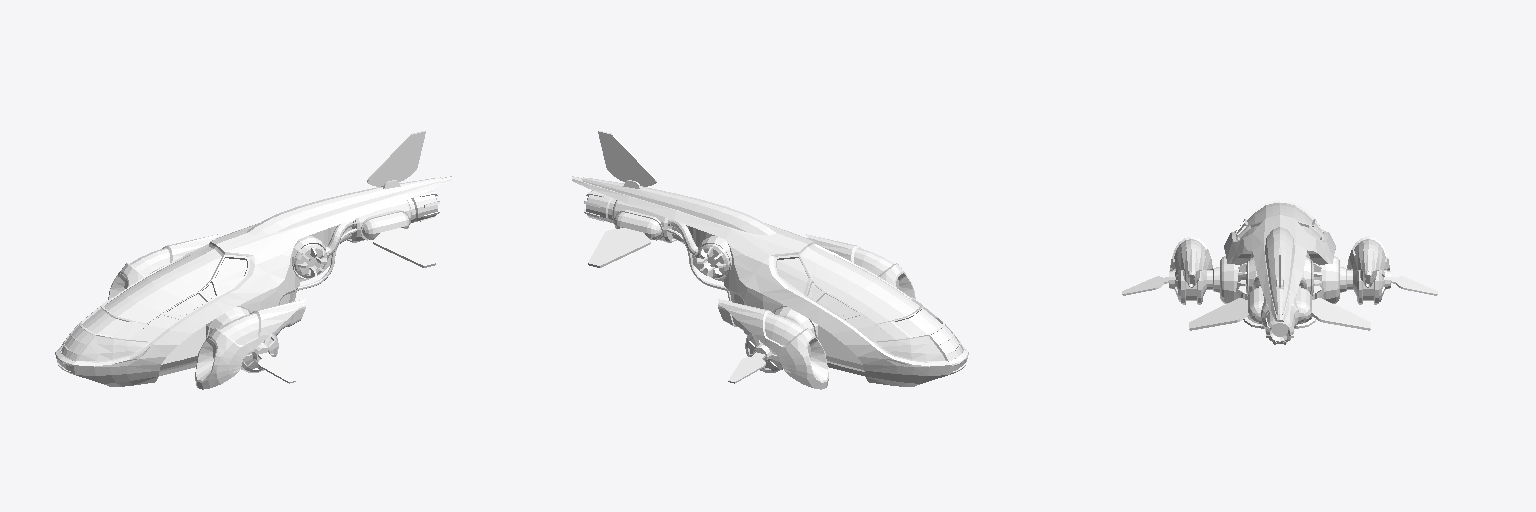
Rendered from SpaceShip.obj.
The picture shows the model from 3 angles: view 1: azimuth 30°, elevation 25°; view 2: azimuth 150°, elevation 25°; view 3: azimuth 270°, elevation 25°; orthographic projection.
Parts seen in each view (by area): view 1: Ship_Type_3_sh3; view 2: Ship_Type_3_sh3; view 3: Ship_Type_3_sh3.
Part boxes in pixels (bbox=[...]): Ship_Type_3_sh3: bbox=[55, 131, 451, 389]; Ship_Type_3_sh3: bbox=[572, 131, 968, 389]; Ship_Type_3_sh3: bbox=[1122, 201, 1437, 344].
Bounding box in the file's own units: 0.8613 × 0.3519 × 0.5999.